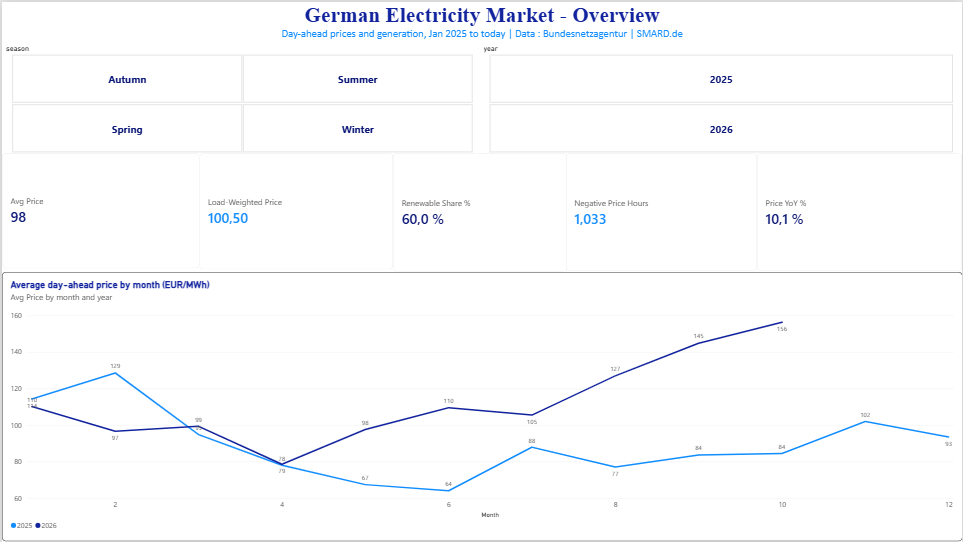

What the dashboard file says about the page in this screenshot:
{"tool":"powerbi","page":{"name":"Overview","canvas":[1920,1080],"ordinal":0},"visuals":[{"type":"cardVisual","fields":{"Data":["_Measures.Negative Hours Display"]},"box":[1127.5,302.5,382.5,235],"z":0},{"type":"cardVisual","fields":{"Data":["_Measures.Load-Weighted Price"]},"box":[395,302.5,387.5,232.5],"z":1000},{"type":"cardVisual","fields":{"Data":["_Measures.Renewable Share %"]},"box":[782.5,302.5,347.5,237.5],"z":2000},{"type":"cardVisual","fields":{"Data":["_Measures.Price YoY %"]},"box":[1510,302.5,410,235],"z":3000},{"type":"cardVisual","fields":{"Data":["_Measures.Avg Price"]},"box":[0,302.5,395,230],"z":4000},{"type":"lineChart","title":"Average day-ahead price by month (EUR/MWh)","fields":{"Category":["dim_date.month"],"Series":["dim_date.year"],"Y":["_Measures.Avg Price"]},"box":[0,540.9,1920.5,538.6],"z":5000},{"type":"slicer","fields":{"Values":["dim_date.year"]},"box":[955,85,965,217.5],"z":6000},{"type":"slicer","fields":{"Values":["dim_date.season"]},"box":[0,85,960,217.5],"z":7000},{"type":"textbox","box":[0,0,1920.5,81.8],"z":8000}]}

Visuals, with their boxes in screenshot pixels (x1, y1, x2, y2), scaled from the page's 1920x1080 canvas onto the 963x542 screenshot:
cardVisual - _Measures.Negative Hours Display: x1=566, y1=152, x2=757, y2=270
cardVisual - _Measures.Load-Weighted Price: x1=198, y1=152, x2=392, y2=268
cardVisual - _Measures.Renewable Share %: x1=392, y1=152, x2=567, y2=271
cardVisual - _Measures.Price YoY %: x1=757, y1=152, x2=962, y2=270
cardVisual - _Measures.Avg Price: x1=0, y1=152, x2=198, y2=267
"Average day-ahead price by month (EUR/MWh)" lineChart: x1=0, y1=271, x2=962, y2=541
slicer - dim_date.year: x1=479, y1=43, x2=962, y2=152
slicer - dim_date.season: x1=0, y1=43, x2=482, y2=152
textbox: x1=0, y1=0, x2=962, y2=41
